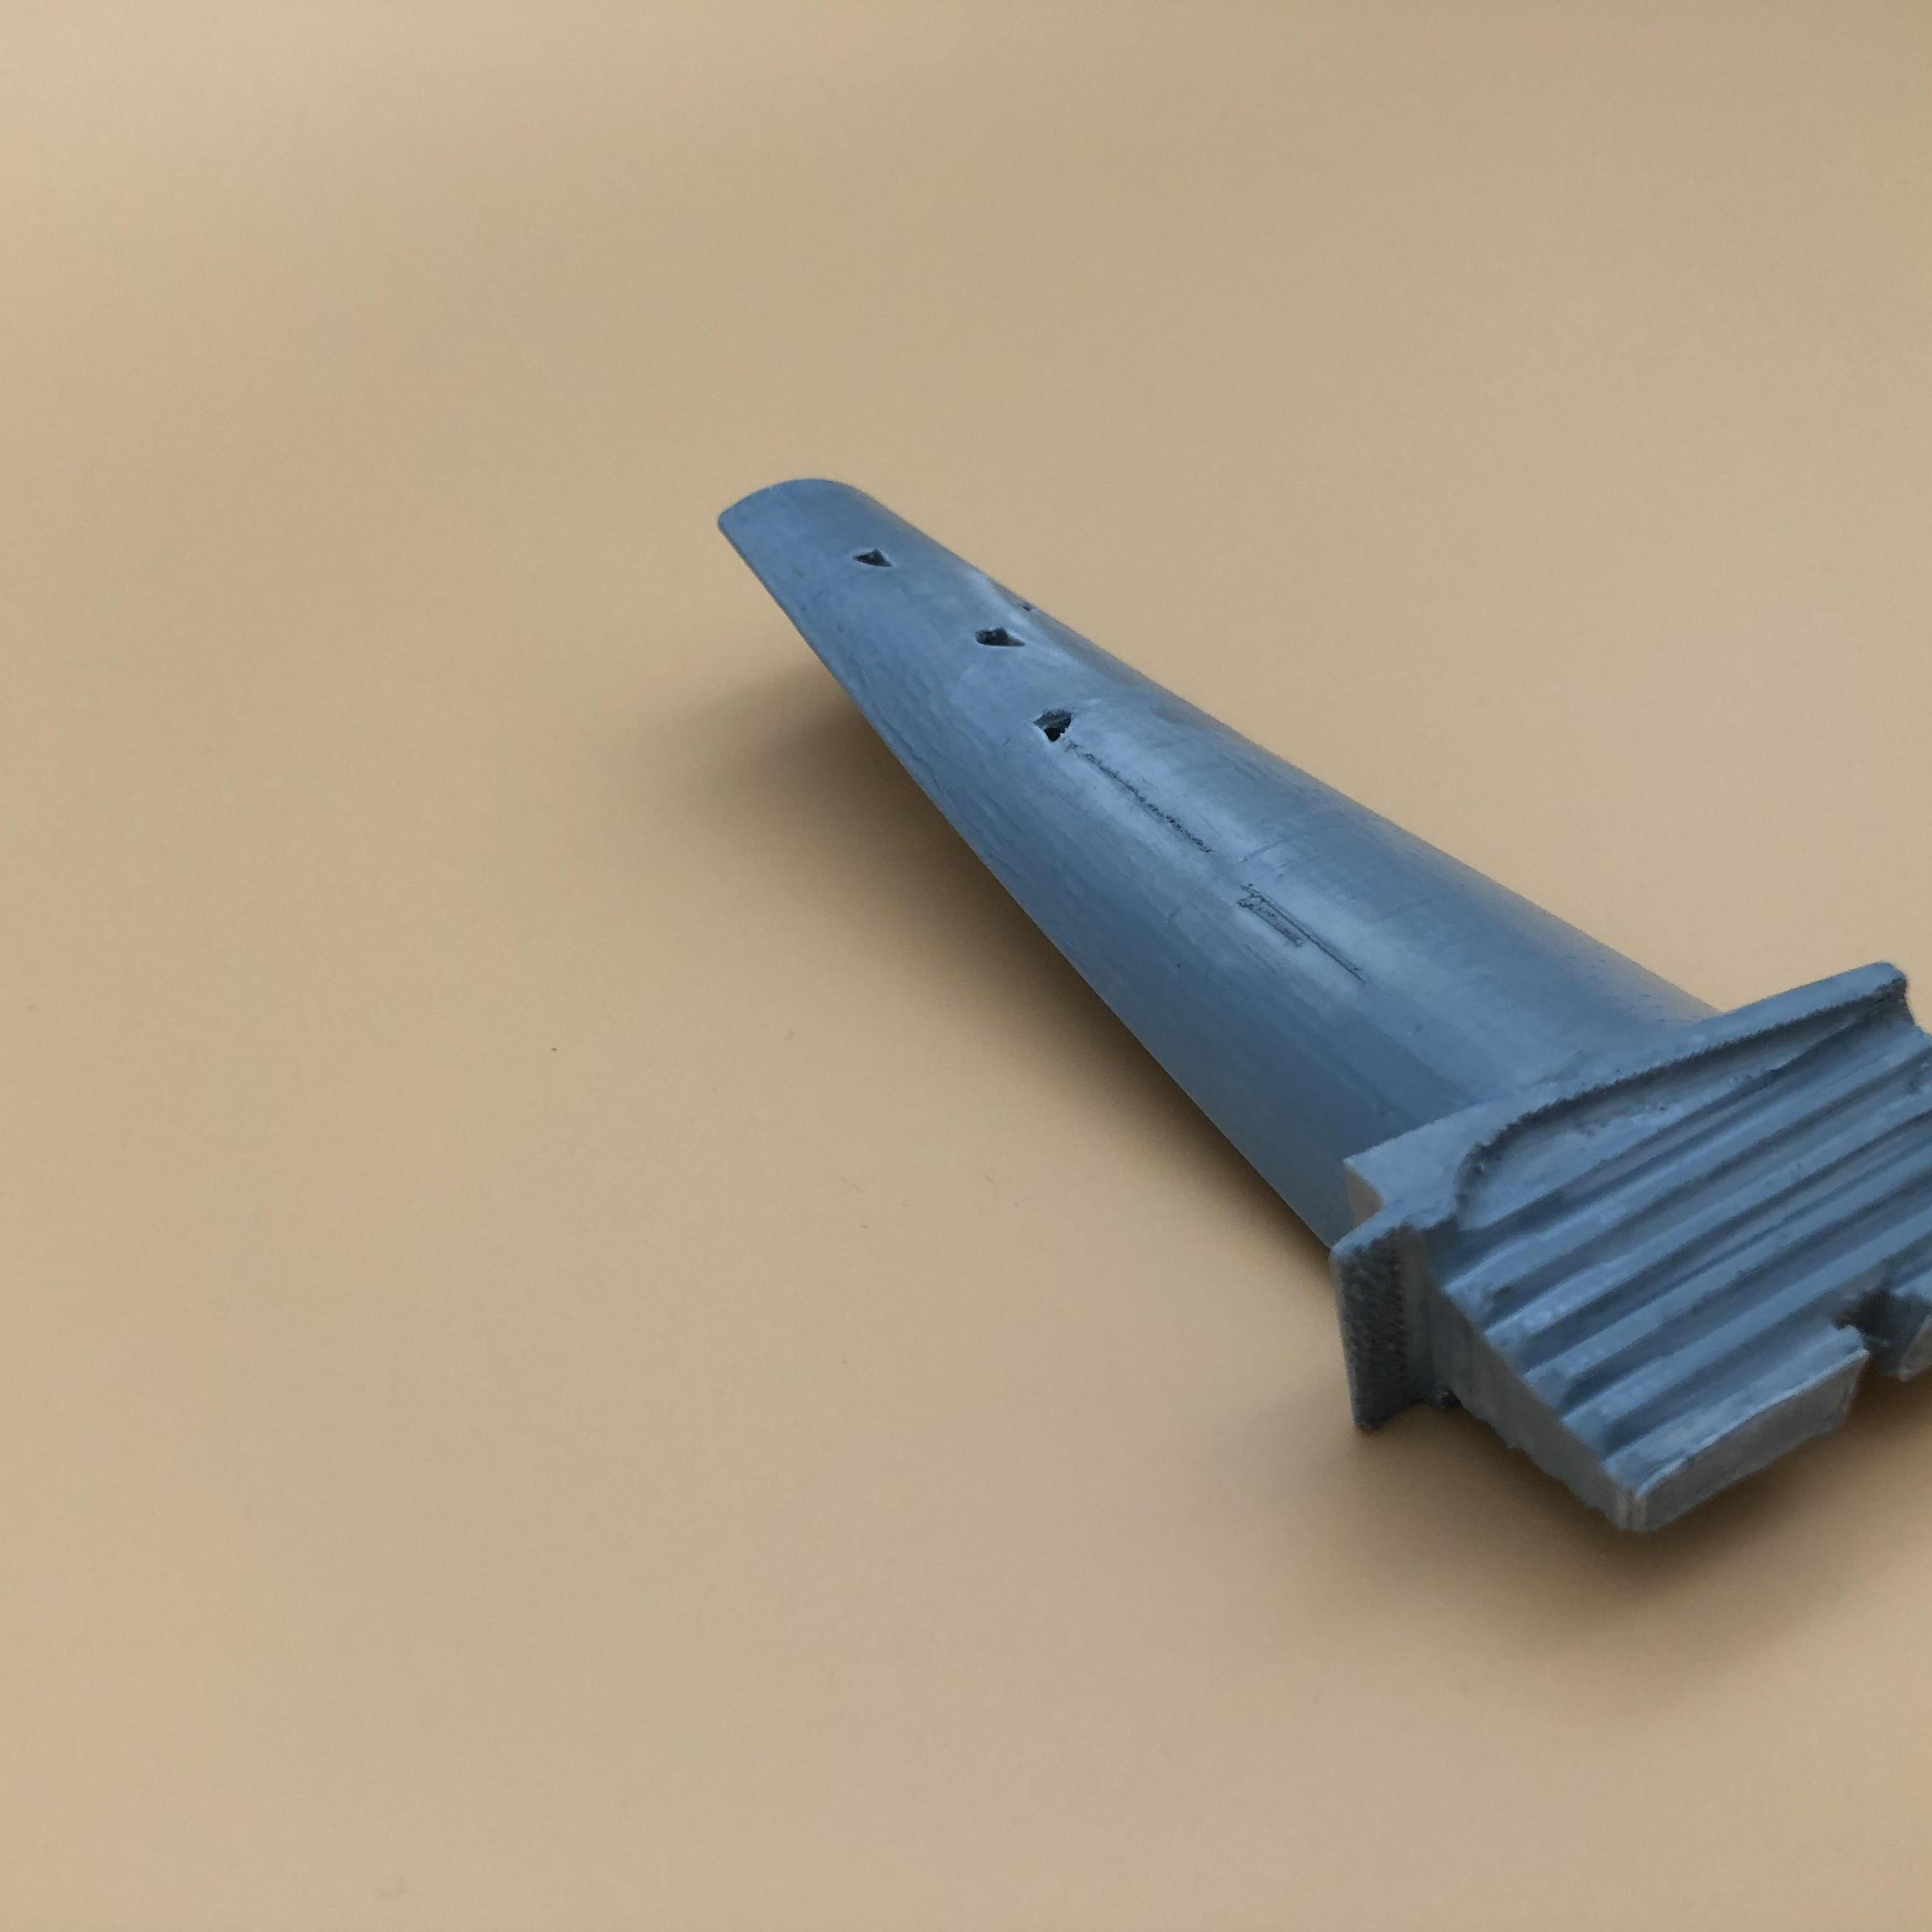breakdown: (977, 619, 1086, 747), (847, 534, 899, 575)
